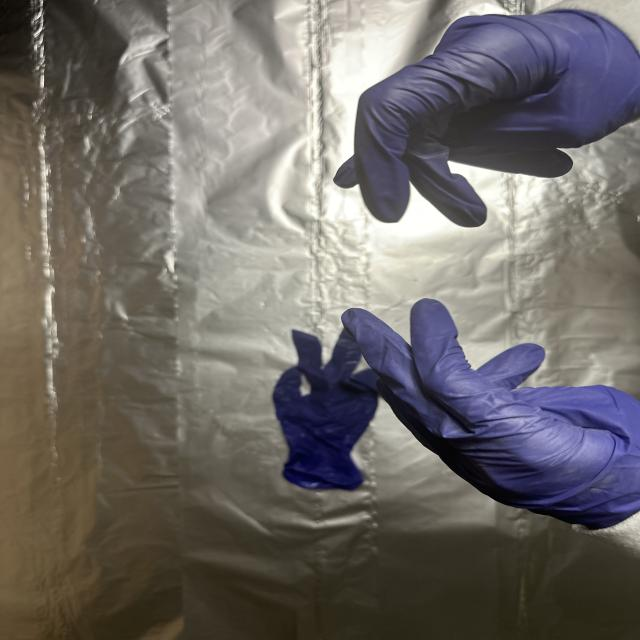gloves_contaminated: (342, 299, 640, 532), (334, 10, 640, 227)
